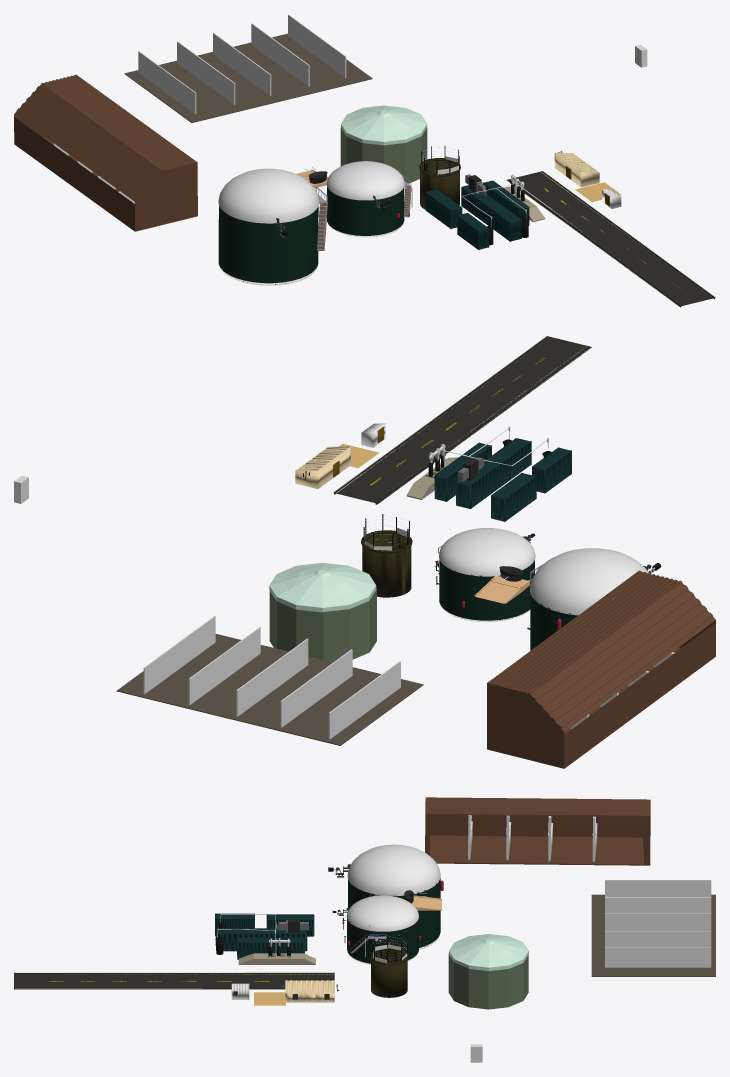
File: biogasplantmodel_mod.glb
3 renders of one model, top to bottom at view 1: azimuth 30°, elevation 25°; view 2: azimuth 150°, elevation 25°; view 3: azimuth 270°, elevation 25°, orthographic. The views are drawn at different scales.
Parts seen in each view (by area): view 1: Cube.050, Plane, Plane.003, Cylinder, Sphere, Cylinder.036, Cylinder.073, Sphere.015, Cylinder.072, Cube.061, Cylinder.074, Cube.008 (+8 smaller); view 2: Cube.050, Plane, Plane.003, Cylinder.072, Sphere, Cylinder.073, Sphere.015, Cylinder.036, Cylinder.074, Cube.061, Cube.008, Cube.013 (+9 smaller); view 3: Cube.050, Plane.003, Sphere, Cylinder.072, Plane, Cylinder.073, Cube.017, Sphere.015, Cube.006, Cube.013, Cube.008, Cube.014 (+10 smaller).
Part boxes in pixels (x1,y1,x2,y2): Cube.050: (14, 74, 197, 231); Plane: (124, 33, 372, 122); Plane.003: (506, 171, 715, 307); Cylinder: (218, 206, 318, 283); Sphere: (218, 168, 318, 223); Cylinder.036: (327, 187, 404, 235); Cylinder.073: (341, 105, 427, 145); Sphere.015: (326, 161, 404, 200); Cylinder.072: (340, 127, 427, 183); Cube.061: (461, 185, 521, 241); Cylinder.074: (419, 158, 460, 209); Cube.008: (177, 41, 235, 104); Cube.050: (487, 570, 715, 768); Plane: (116, 634, 423, 745); Plane.003: (333, 336, 591, 504); Cylinder.072: (269, 589, 376, 662); Sphere: (530, 548, 648, 615); Cylinder.073: (269, 562, 376, 612); Sphere.015: (439, 528, 535, 576); Cylinder.036: (439, 559, 534, 620); Cylinder.074: (361, 530, 412, 597); Cube.061: (456, 438, 531, 508); Cube.008: (280, 649, 352, 727); Cube.013: (236, 638, 308, 716); Cube.050: (425, 797, 650, 865); Plane.003: (14, 972, 334, 989); Sphere: (347, 844, 440, 895); Cylinder.072: (448, 953, 528, 1009); Plane: (591, 894, 715, 976); Cylinder.073: (449, 934, 528, 970); Cube.017: (605, 947, 711, 967); Sphere.015: (346, 895, 418, 931); Cube.006: (605, 880, 711, 897); Cube.013: (605, 913, 711, 930); Cube.008: (605, 897, 711, 913); Cube.014: (605, 931, 711, 947).
Size of the model in its own units: 201 by 37.19 by 246.
Materials: 57 (2 with a texture image).
